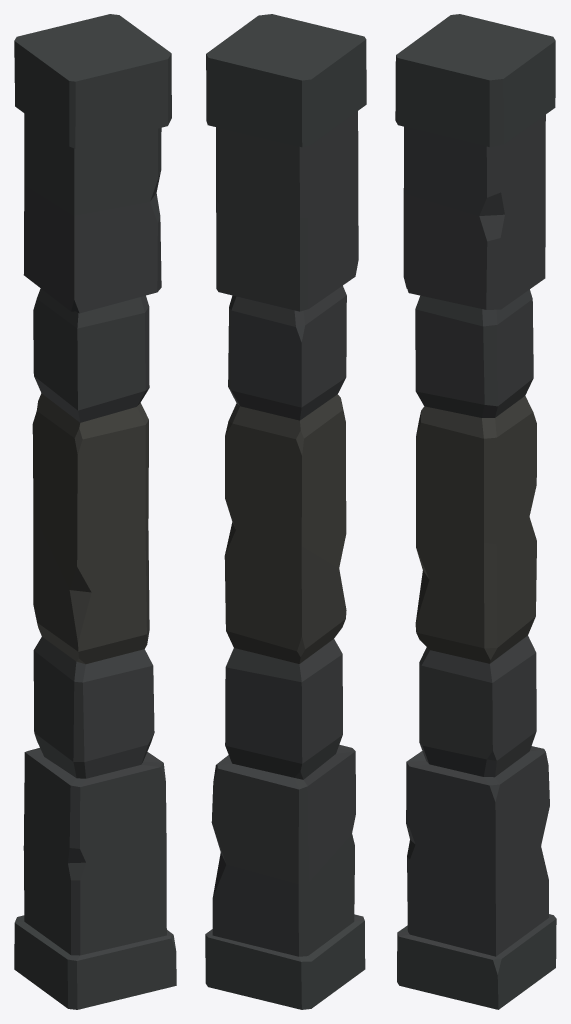
The model's file is Pillar_3.fbx.
3 renders of one model, left to right at view 1: azimuth 30°, elevation 25°; view 2: azimuth 150°, elevation 25°; view 3: azimuth 330°, elevation 25°, orthographic.
Visible parts, largest first — view 1: Pillar_3; view 2: Pillar_3; view 3: Pillar_3.
Part boxes in pixels (<box>): Pillar_3: <box>14,14,176,1009</box>; Pillar_3: <box>205,14,366,1009</box>; Pillar_3: <box>395,14,556,1009</box>.
Bounding box in the file's own units: 29.86 × 250 × 29.82.
